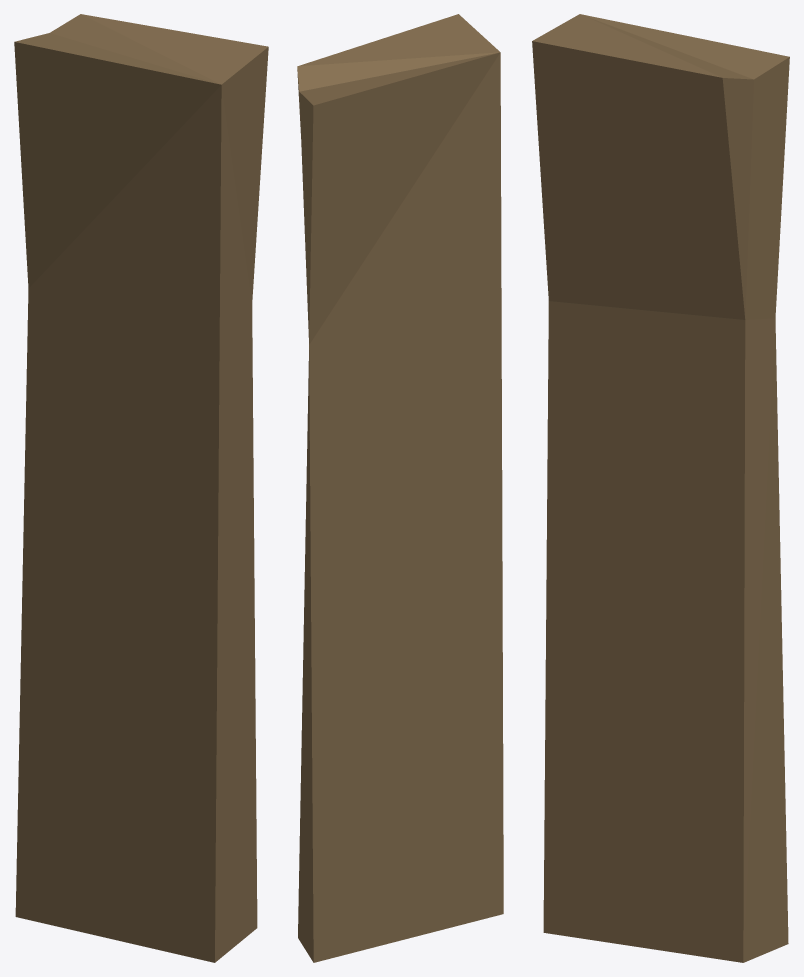
Rendered from Rock.003.fbx.
3 views of the same model, side by side, from view 1: azimuth 90°, elevation 25°; view 2: azimuth 150°, elevation 25°; view 3: azimuth 270°, elevation 25° (orthographic). The views are drawn at different scales.
Visible parts, largest first — view 1: Rock.003; view 2: Rock.003; view 3: Rock.003.
Boxes of the visible parts, left/top/right/bottom form: Rock.003: left=14, top=14, right=268, bottom=962; Rock.003: left=297, top=14, right=503, bottom=962; Rock.003: left=532, top=14, right=789, bottom=962.
Bounding box in the file's own units: 88.73 × 520 × 136.
